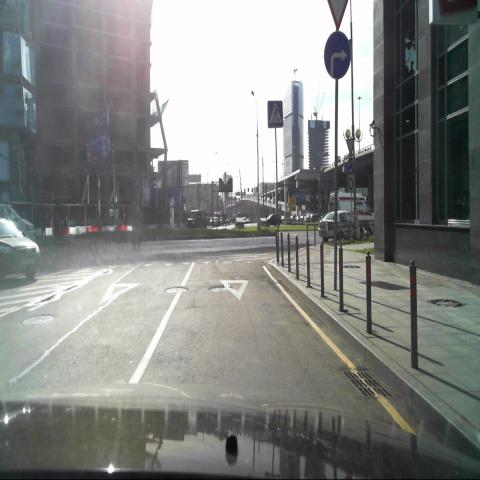4_1_2: (324, 31, 352, 81)
